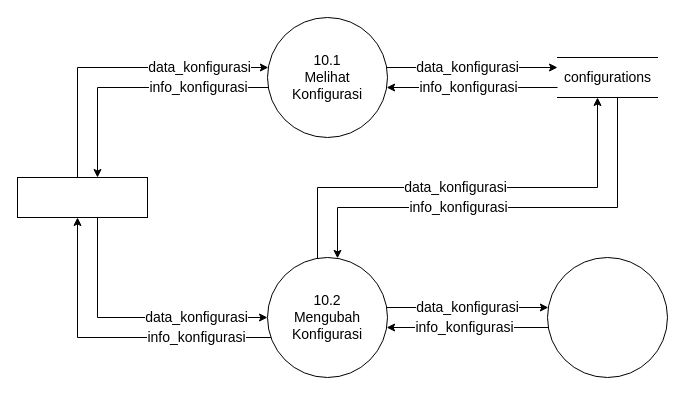
Image size: 685x395. Some labels were removed from this diagram. The centre of each missing label's shape, as x and y in pixels:
10.3 Upload Foto Background Login dan Register: (607,317)
Admin: (82,197)
